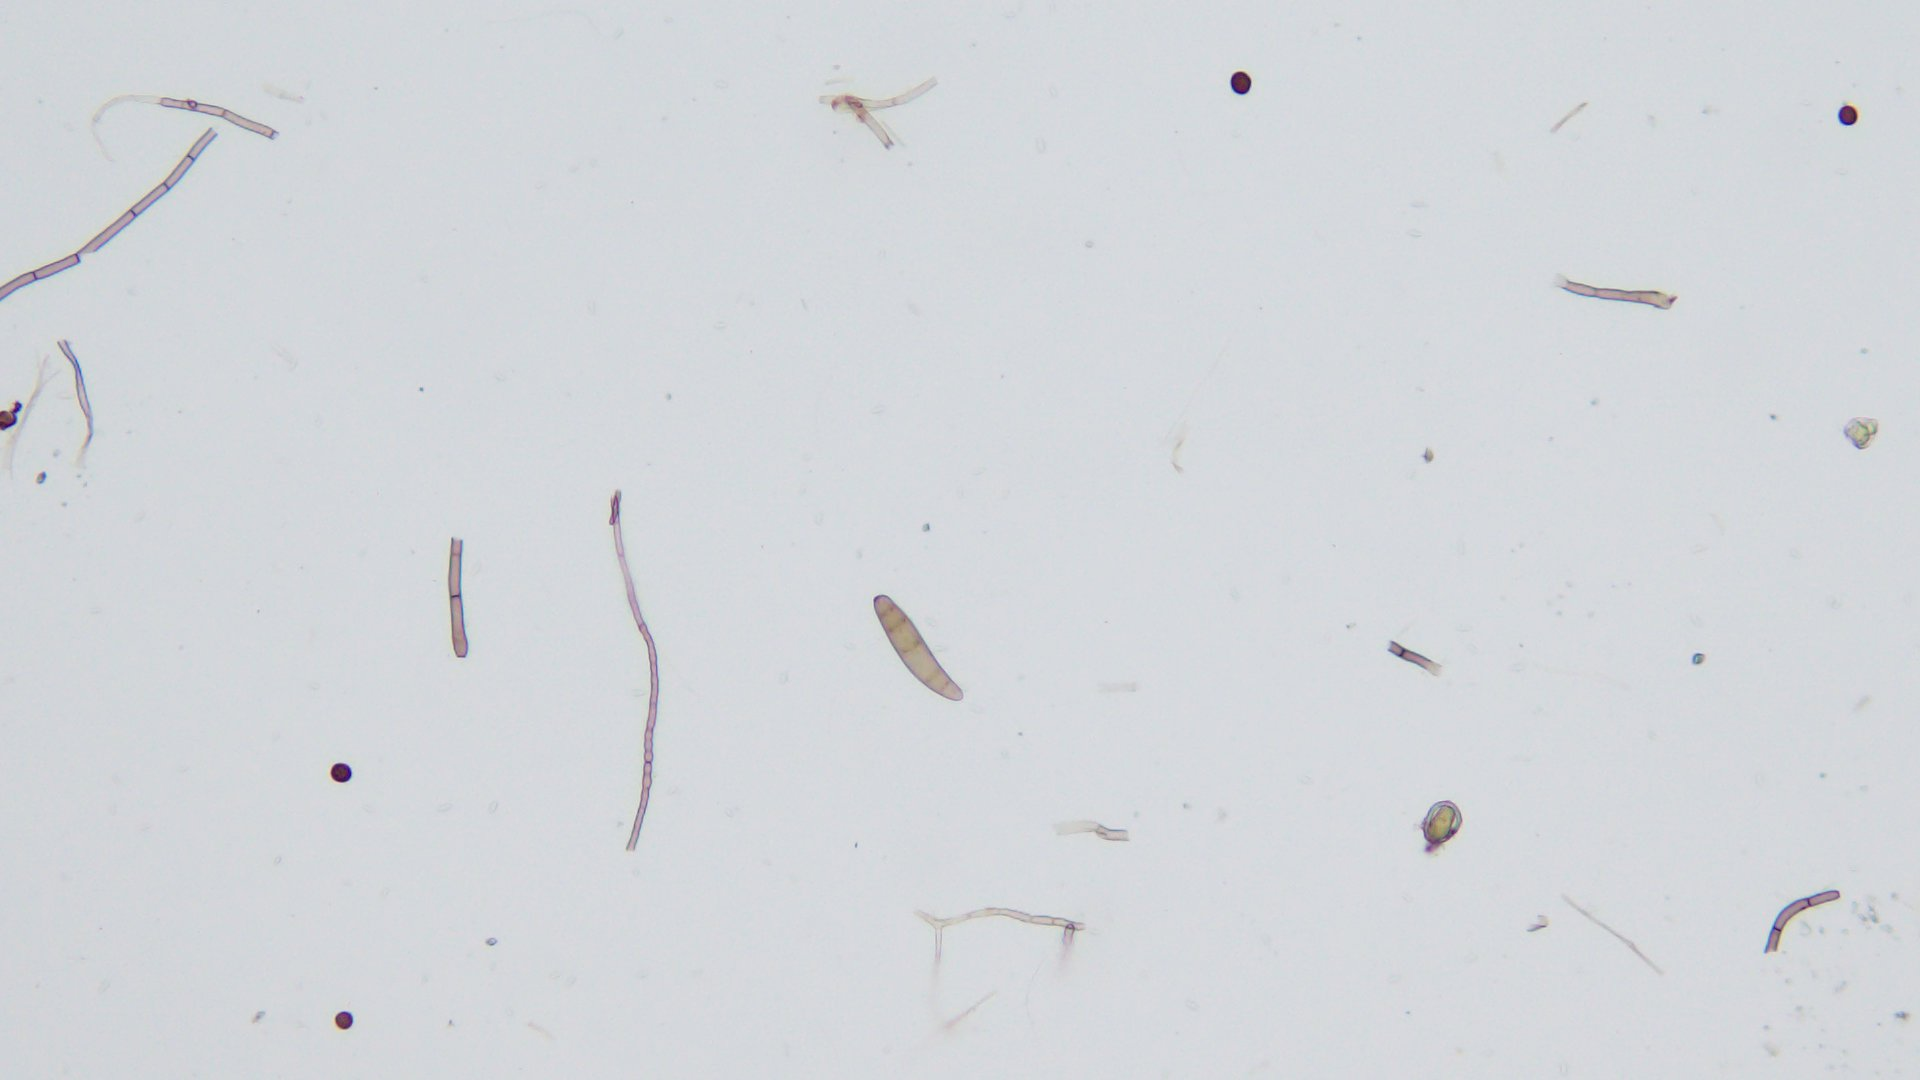dbb_spore: (872, 595, 967, 702)
shs_spore: (1228, 71, 1255, 95), (328, 762, 352, 782), (1838, 104, 1858, 125), (334, 1011, 355, 1029)
xb_spore: (1419, 799, 1462, 844)
